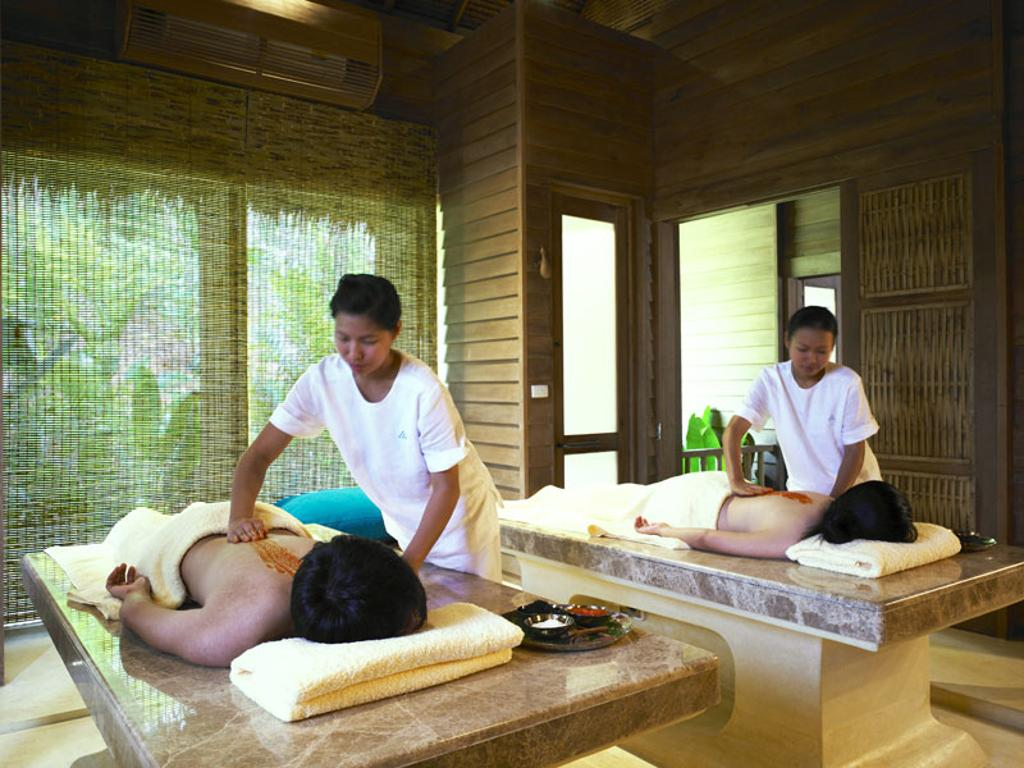face: (334, 316, 390, 375), (790, 331, 833, 377)
